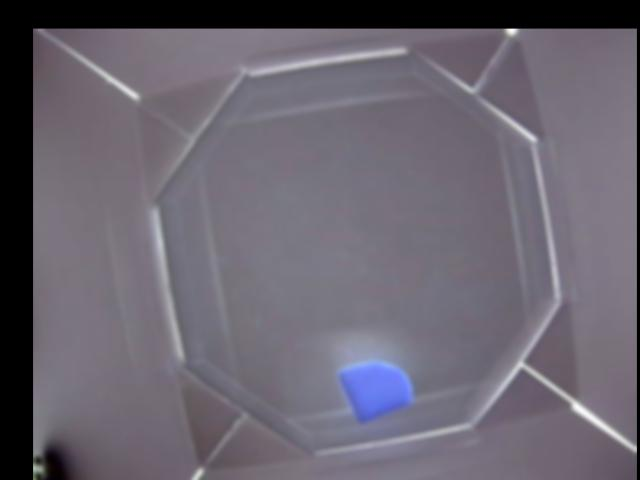Potato: (337, 360, 414, 421)
